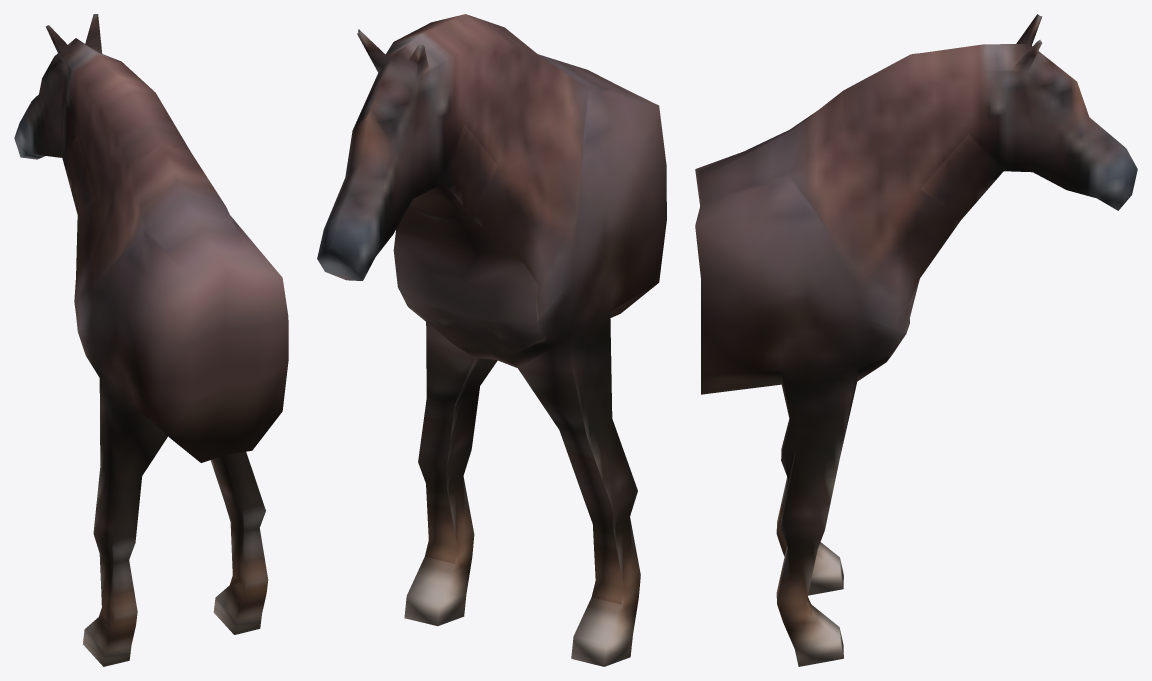
Rendered from horserdeath1.obj.
The picture shows the model from 3 angles, left to right: view 1: azimuth 30°, elevation 25°; view 2: azimuth 150°, elevation 25°; view 3: azimuth 270°, elevation 25°; orthographic projection. The views are drawn at different scales.
Parts seen in each view (by area): view 1: Cube.001; view 2: Cube.001; view 3: Cube.001.
Part boxes in pixels (left/top/right/bottom): Cube.001: left=14, top=14, right=288, bottom=666; Cube.001: left=317, top=14, right=666, bottom=666; Cube.001: left=695, top=14, right=1137, bottom=666.
Size of the model in its own units: 0.956 by 3.19 by 2.14.
